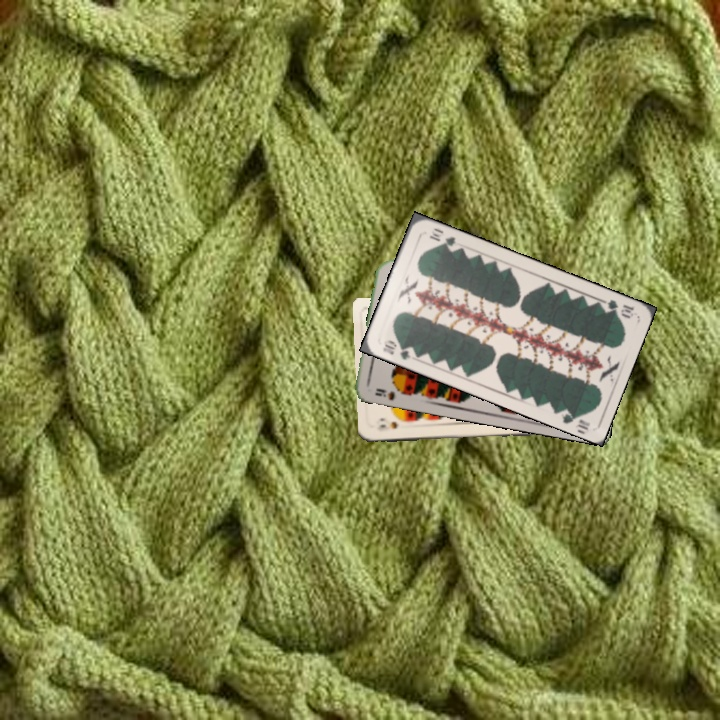G10: (596, 295, 637, 321), (379, 336, 413, 363)
S10: (373, 419, 401, 434)
S9: (371, 383, 409, 403)
